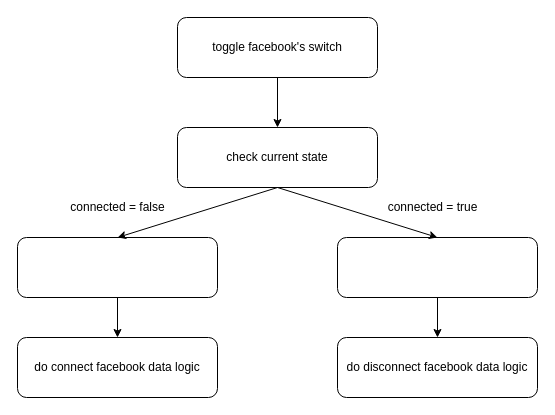
This 555x415 diagram has some shape labels left out. The shapes that lost their labels are listed below. From the top down, each one's centre as x and y in pixels, then its label:
At pixel 117 267: "popup dialog with connection confirmation".
At pixel 437 267: "popup dialog with disconnection confirmation".
